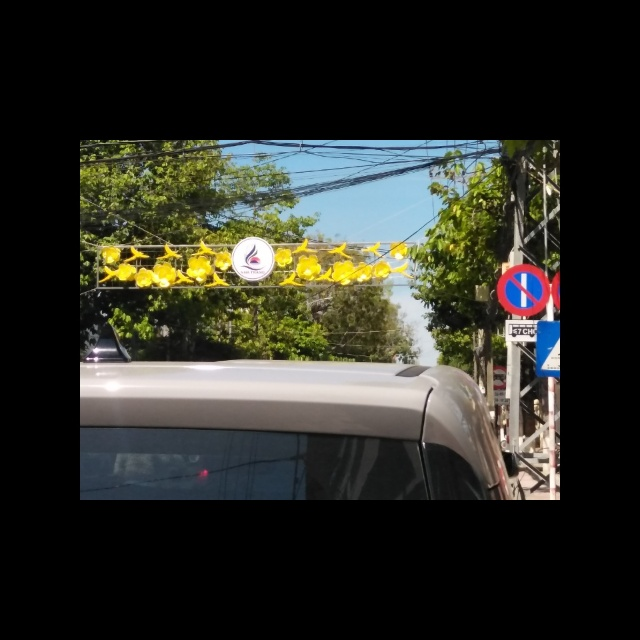Cấm đỗ xe ngày lẻ: (495, 263, 552, 318)
